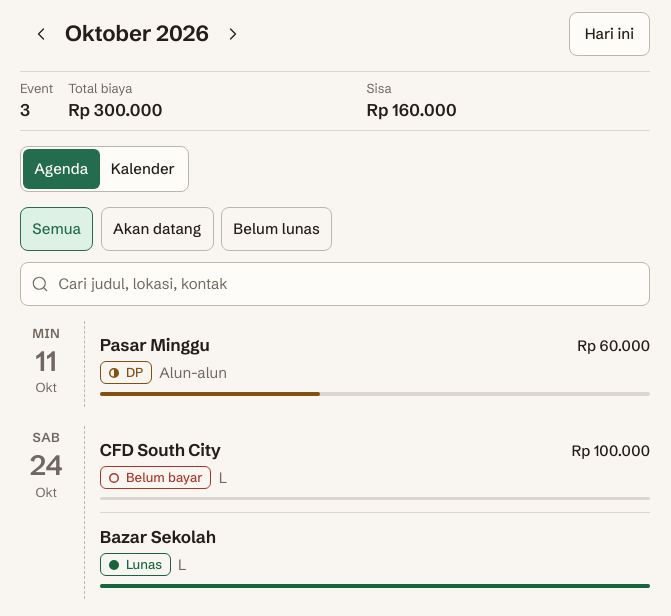
search filters by location
Type "alun" into the search field.
click(335, 284); type("alun")  # box [20,262,650,306]
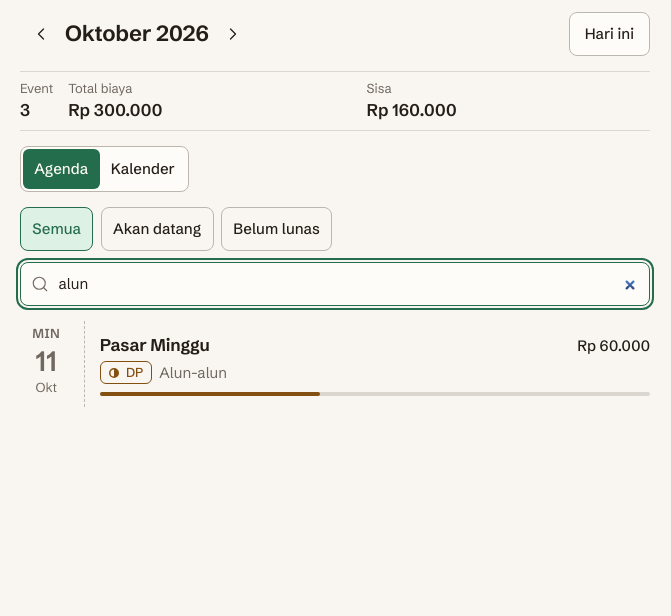
Check: the heading "Pasar Minggu" is shown, box [100,332,210,358]
Check: the link "CFD South City" is gone
